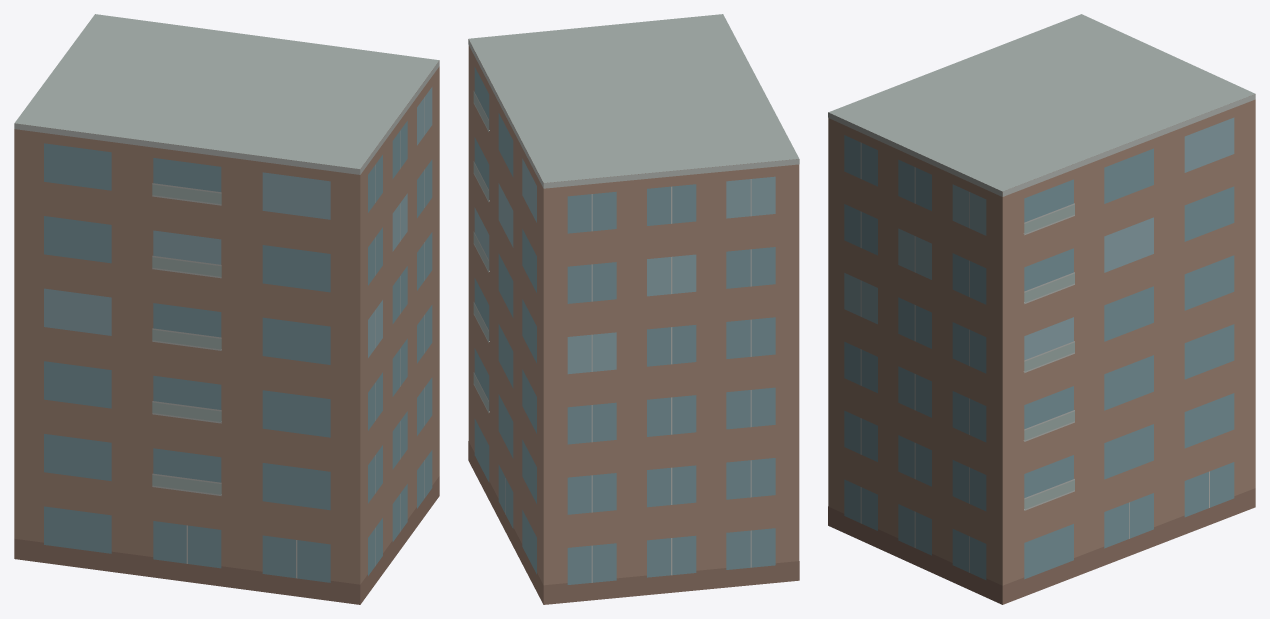
The model's file is survey-upis-32560828.glb.
The picture shows the model from 3 angles, left to right: view 1: azimuth 30°, elevation 25°; view 2: azimuth 150°, elevation 25°; view 3: azimuth 270°, elevation 25°; orthographic projection. The views are drawn at different scales.
Parts seen in each view (by area): view 1: survey-upis-32560828.tmp; view 2: survey-upis-32560828.tmp; view 3: survey-upis-32560828.tmp.
Part boxes in pixels (box(x1,y1,x2,y2)): survey-upis-32560828.tmp: box(14, 14, 439, 604); survey-upis-32560828.tmp: box(468, 14, 799, 604); survey-upis-32560828.tmp: box(828, 14, 1255, 604).
Bounding box in the file's own units: 16.87 × 18.3 × 17.16.
